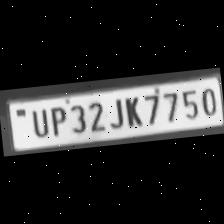0: (196, 85, 219, 117)
2: (84, 98, 107, 134)
3: (66, 100, 88, 136)
5: (177, 87, 200, 121)
7: (158, 88, 180, 124), (141, 92, 163, 126)
J: (104, 96, 124, 130)
K: (120, 94, 144, 128)
P: (45, 104, 68, 138)
U: (25, 105, 50, 138)
